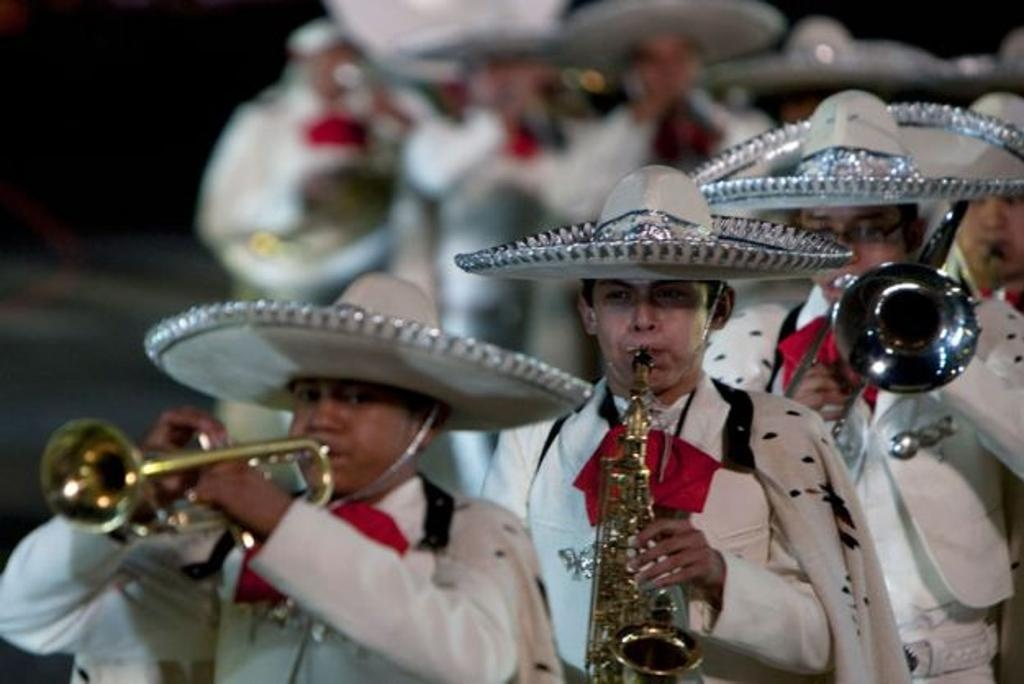human_face: (288, 354, 412, 492), (596, 258, 710, 382), (798, 192, 904, 304), (954, 162, 1024, 280)
